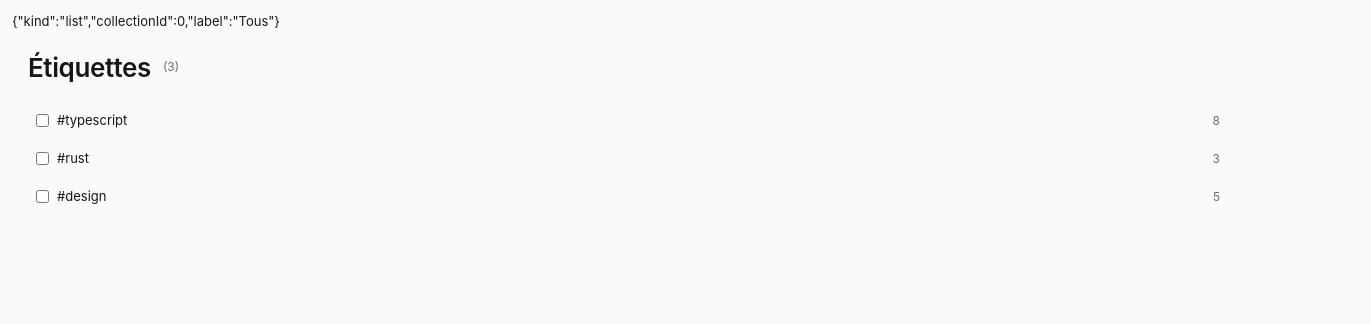
TagsView — filtrer sur les étiquettes cochées › la commande n'apparaît QU'UNE FOIS une case cochée, et porte le nombre
Expected: the text "Filtrer sur" is not shown
Click the checkbox named "typescript" at x=42, y=120, box [36,114,49,127]
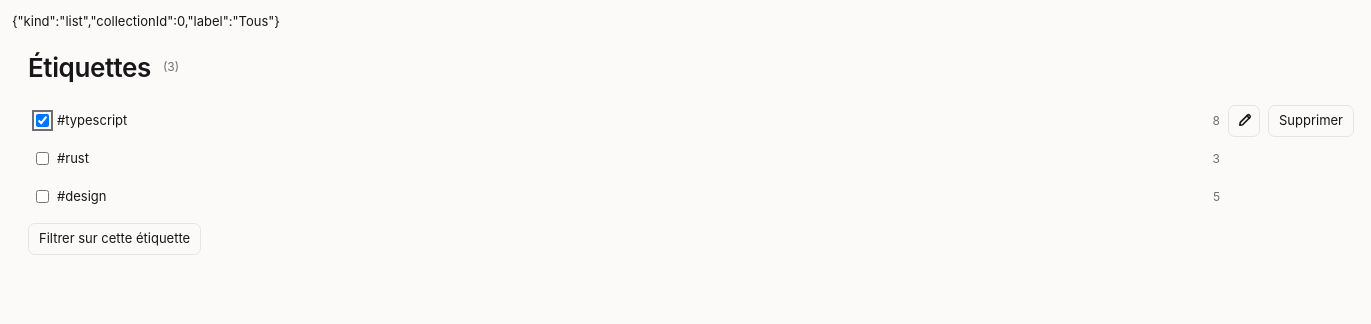
Expected: the button "Filtrer sur cette étiquette" is shown, [28,222,201,254]
Click the checkbox named "rust" at x=42, y=158, box [36,152,49,165]
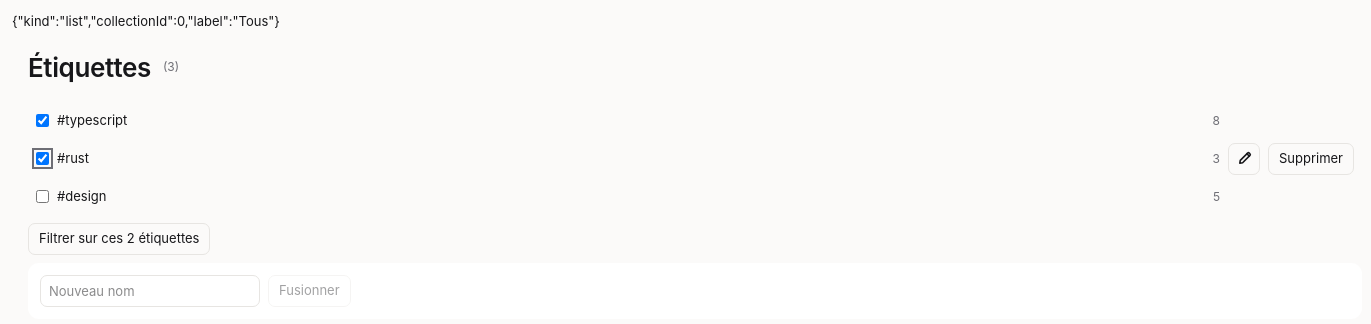
Expected: the button "Filtrer sur ces 2 étiquettes" is shown, [28,222,210,254]
